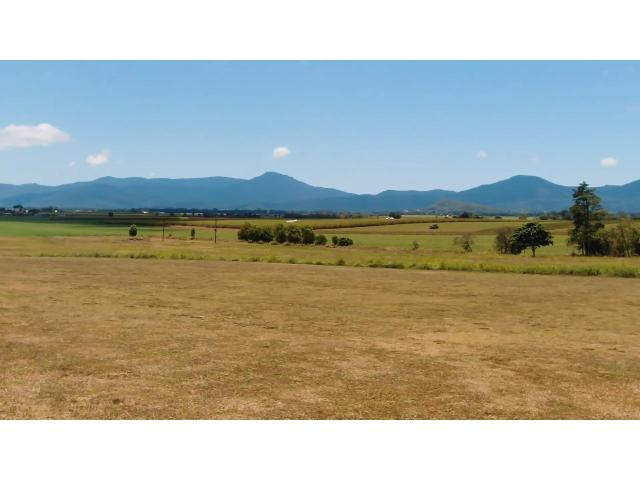Anti-Drone: (282, 215, 306, 229)
